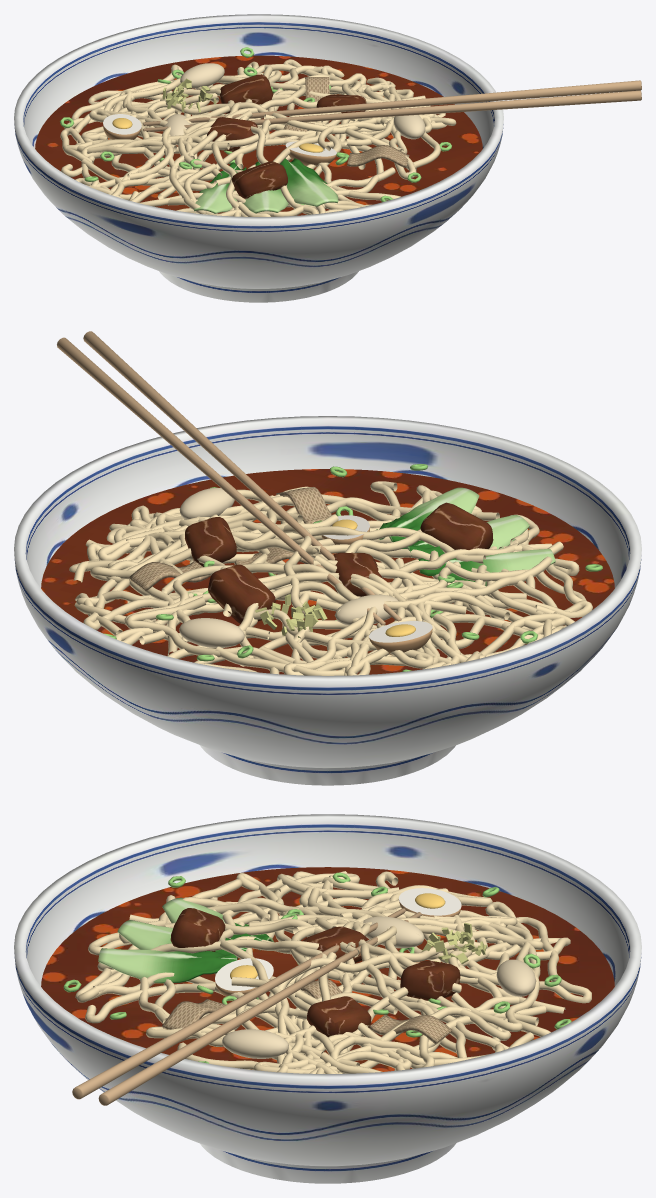
The model's file is beefnoodle-lite.glb.
The picture shows the model from 3 angles, top to bottom: view 1: azimuth 30°, elevation 25°; view 2: azimuth 150°, elevation 25°; view 3: azimuth 270°, elevation 25°; orthographic projection. The views are drawn at different scales.
Visible parts, largest first — view 1: Bowl, ExtraNoodles, Broth, Noodles, Chopstick.001, Chopstick, BokChoy.002, BeefShank.002, Scallion, BeefShank.003, BokChoy, BeefShank.001 (+9 smaller); view 2: Bowl, ExtraNoodles, Noodles, Broth, Chopstick.001, Chopstick, BeefShank.002, BeefShank.003, BeefShank, Scallion, BokChoy, BraisedEgg.001 (+10 smaller); view 3: Bowl, ExtraNoodles, Broth, Noodles, Chopstick.001, BokChoy.002, Chopstick, Scallion, BeefShank.003, BeefShank, BeefShank.002, Tendon.002 (+10 smaller).
Part boxes in pixels (x1=…): Bowl: x1=14, y1=14, x2=503, y2=302; ExtraNoodles: x1=75, y1=64, x2=434, y2=216; Broth: x1=35, y1=55, x2=482, y2=215; Noodles: x1=60, y1=59, x2=456, y2=216; Chopstick.001: x1=143, y1=80, x2=641, y2=126; Chopstick: x1=143, y1=90, x2=641, y2=131; BokChoy.002: x1=280, y1=158, x2=338, y2=206; BeefShank.002: x1=231, y1=161, x2=287, y2=198; Scallion: x1=60, y1=47, x2=451, y2=204; BeefShank.003: x1=219, y1=74, x2=273, y2=113; BokChoy: x1=193, y1=162, x2=246, y2=213; BeefShank.001: x1=207, y1=117, x2=257, y2=151; Bowl: x1=14, y1=416, x2=641, y2=785; ExtraNoodles: x1=90, y1=486, x2=552, y2=675; Noodles: x1=69, y1=481, x2=592, y2=675; Broth: x1=41, y1=469, x2=614, y2=674; Chopstick.001: x1=57, y1=337, x2=385, y2=625; Chopstick: x1=83, y1=331, x2=401, y2=621; BeefShank.002: x1=420, y1=502, x2=493, y2=549; BeefShank.003: x1=208, y1=564, x2=275, y2=623; BeefShank: x1=185, y1=517, x2=236, y2=566; Scallion: x1=103, y1=464, x2=602, y2=671; BokChoy: x1=418, y1=549, x2=555, y2=586; BraisedEgg.001: x1=369, y1=621, x2=432, y2=655; Bowl: x1=14, y1=814, x2=641, y2=1183; ExtraNoodles: x1=97, y1=887, x2=543, y2=1073; Broth: x1=41, y1=867, x2=614, y2=1071; Noodles: x1=75, y1=871, x2=591, y2=1073; Chopstick.001: x1=98, y1=912, x2=421, y2=1105; BokChoy.002: x1=98, y1=948, x2=237, y2=983; Chopstick: x1=72, y1=908, x2=405, y2=1099; Scallion: x1=63, y1=872, x2=571, y2=1063; BeefShank.003: x1=400, y1=960, x2=460, y2=1000; BeefShank: x1=307, y1=996, x2=371, y2=1036; BeefShank.002: x1=170, y1=908, x2=225, y2=951; Tendon.002: x1=222, y1=1029, x2=288, y2=1058.
Bounding box in the file's own units: 1.97 × 0.6265 × 1.64.
Materials: 13 (5 with a texture image).
